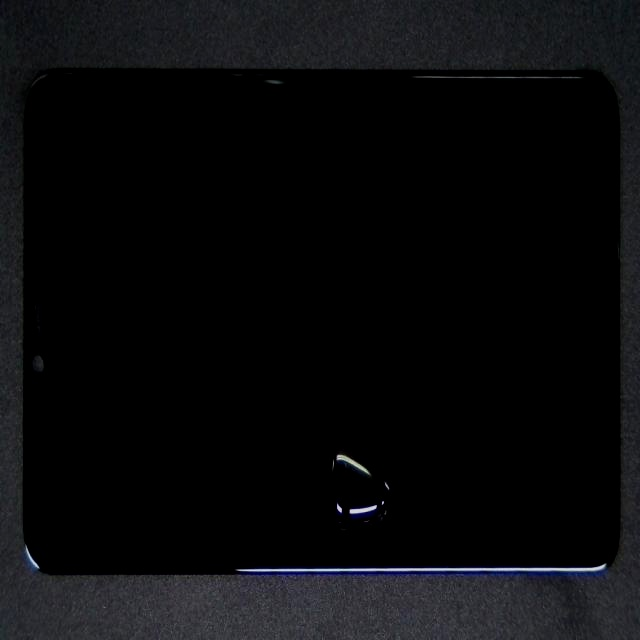oil: (158, 265, 531, 640)
